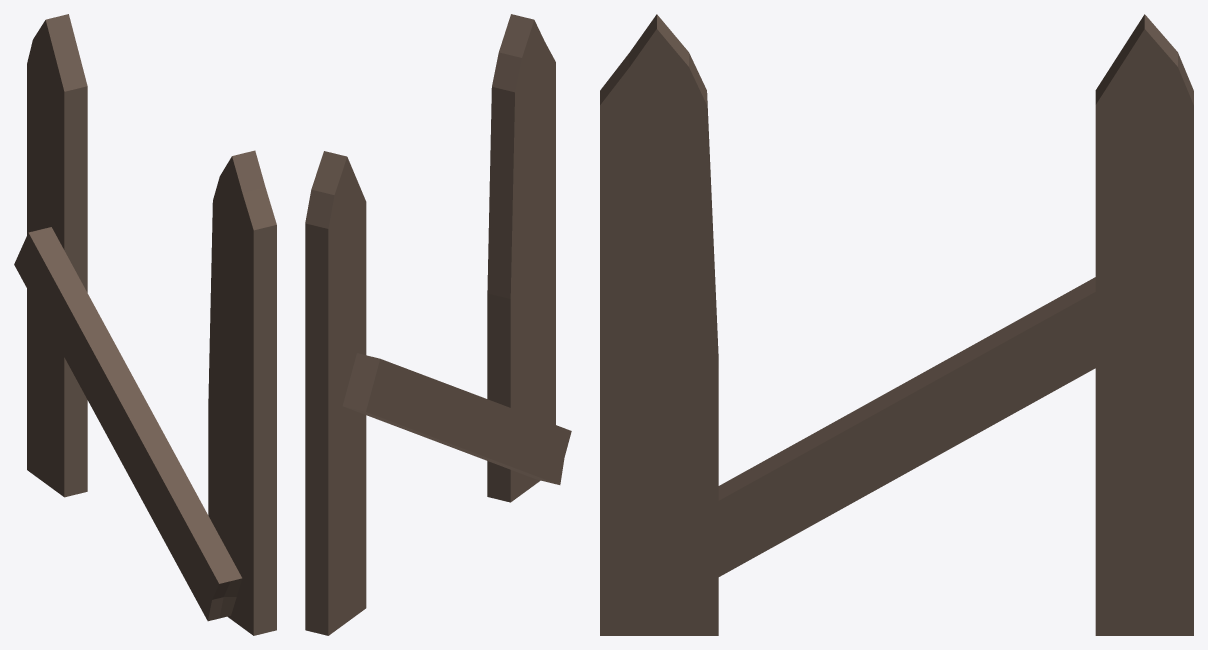
File: Fence2.fbx
The picture shows the model from 3 angles, left to right: view 1: azimuth 30°, elevation 25°; view 2: azimuth 150°, elevation 25°; view 3: azimuth 270°, elevation 25°; orthographic projection. The views are drawn at different scales.
Visible parts, largest first — view 1: Cube.001, Cube.002, Cube.003; view 2: Cube.002, Cube.001, Cube.003; view 3: Cube.001, Cube.002, Cube.003.
Part boxes in pixels (x1,y1,x2,y2): Cube.001: (208,150,276,635); Cube.002: (27,14,87,497); Cube.003: (14,227,242,621); Cube.002: (305,151,366,635); Cube.001: (487,14,555,502); Cube.003: (342,353,571,484); Cube.001: (600,14,718,635); Cube.002: (1095,14,1193,635); Cube.003: (718,277,1095,576).
Bounding box in the file's own units: 65.98 × 607 × 537.
